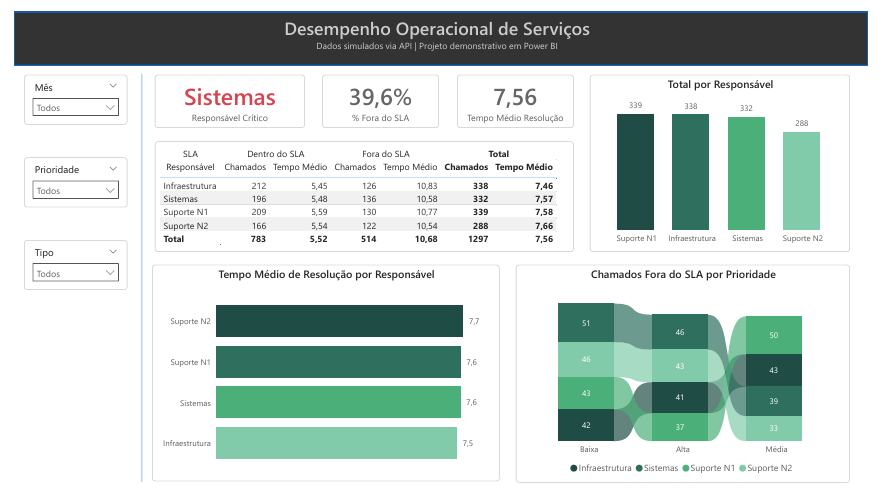

Layout of this report page (visuals, bound fields, positions):
{"tool":"powerbi","page":{"name":"Gargalos Operacionais","canvas":[1280,720],"ordinal":2},"visuals":[{"type":"shape","box":[0,0,1280.2,80],"z":0},{"type":"card","fields":{"Values":["Medidas.Responsável Crítico"]},"box":[211.2,94.1,224.5,79.7],"z":1000},{"type":"card","fields":{"Values":["Medidas.Tempo Médio Resolução"]},"box":[663.9,94,175,79.5],"z":2000},{"type":"card","fields":{"Values":["Medidas.% Fora do SLA"]},"box":[462.3,94.1,175,79.5],"z":3000},{"type":"slicer","fields":{"Values":["chamados.MesNome"]},"box":[14.8,94.3,155,75],"z":4000},{"type":"slicer","fields":{"Values":["chamados.prioridade"]},"box":[14.8,218.2,155,75],"z":5000},{"type":"slicer","fields":{"Values":["chamados.tipo"]},"box":[14.8,342.1,155,75],"z":6000},{"type":"shape","box":[182,93,18.6,612.4],"z":7000},{"type":"ribbonChart","title":"Chamados Fora do SLA — por Prioridade","fields":{"Category":["chamados.prioridade"],"Y":["Medidas.Chamados Fora SLA"],"Series":["chamados.responsavel"]},"box":[752.1,378.9,500.4,326.9],"z":8000},{"type":"textbox","box":[14.9,0,1238.3,80.7],"z":9000},{"type":"clusteredColumnChart","title":"Volume Total de Chamados — por Responsável","fields":{"Category":["chamados.responsavel"],"Y":["Medidas.Total Chamados"]},"box":[863,94,390,266],"z":10000},{"type":"clusteredBarChart","title":"Tempo Médio de Resolução — por Responsável","fields":{"Category":["chamados.responsavel"],"Y":["Medidas.Tempo Médio Resolução"]},"box":[206.8,378.9,520.7,325.4],"z":11000},{"type":"pivotTable","fields":{"Rows":["chamados.responsavel"],"Columns":["chamados.SLA Status"],"Values":["Medidas.Total Chamados","Medidas.Tempo Médio Resolução"]},"box":[211,194,628,166],"z":12000}]}

Visuals, with their boxes in screenshot pixels (x1, y1, x2, y2), scaled from the page's 1280x720 canvas onto the 884x495 screenshot:
shape: rect(0, 0, 883, 55)
card - Medidas.Responsável Crítico: rect(146, 65, 301, 119)
card - Medidas.Tempo Médio Resolução: rect(459, 65, 579, 119)
card - Medidas.% Fora do SLA: rect(319, 65, 440, 119)
slicer - chamados.MesNome: rect(10, 65, 117, 116)
slicer - chamados.prioridade: rect(10, 150, 117, 202)
slicer - chamados.tipo: rect(10, 235, 117, 287)
shape: rect(126, 64, 139, 485)
"Chamados Fora do SLA — por Prioridade" ribbonChart: rect(519, 260, 865, 485)
textbox: rect(10, 0, 865, 55)
"Volume Total de Chamados — por Responsável" clusteredColumnChart: rect(596, 65, 865, 248)
"Tempo Médio de Resolução — por Responsável" clusteredBarChart: rect(143, 260, 502, 484)
pivotTable - chamados.responsavel x chamados.SLA Status: rect(146, 133, 579, 248)
